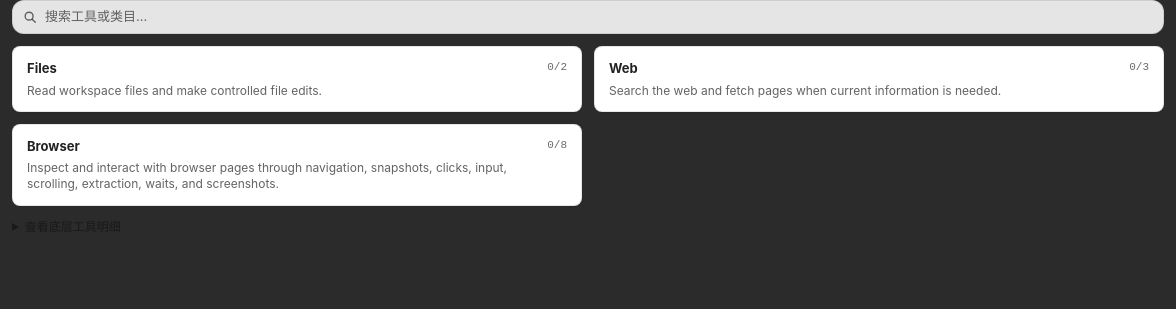
ToolGroupSelector — round 17 filter › filtering by tool id narrows visible capabilities and groups
This screenshot has width=1176, height=309.
Type "web" into the search field labelled "搜索工具" at (599, 17), box 45,7 -> 1153,27
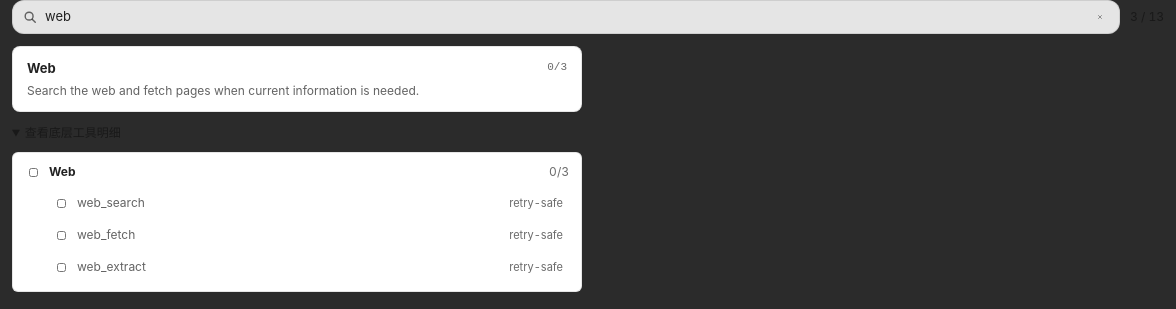
Expected: the text with class "tool-capability-label" reads "Web", 27,60 -> 56,76
Now the number of buttons with class "tool-capability" is 1, box 12,46 -> 582,112
Now the text "web_search retry-safe" is shown, box 57,195 -> 563,210
